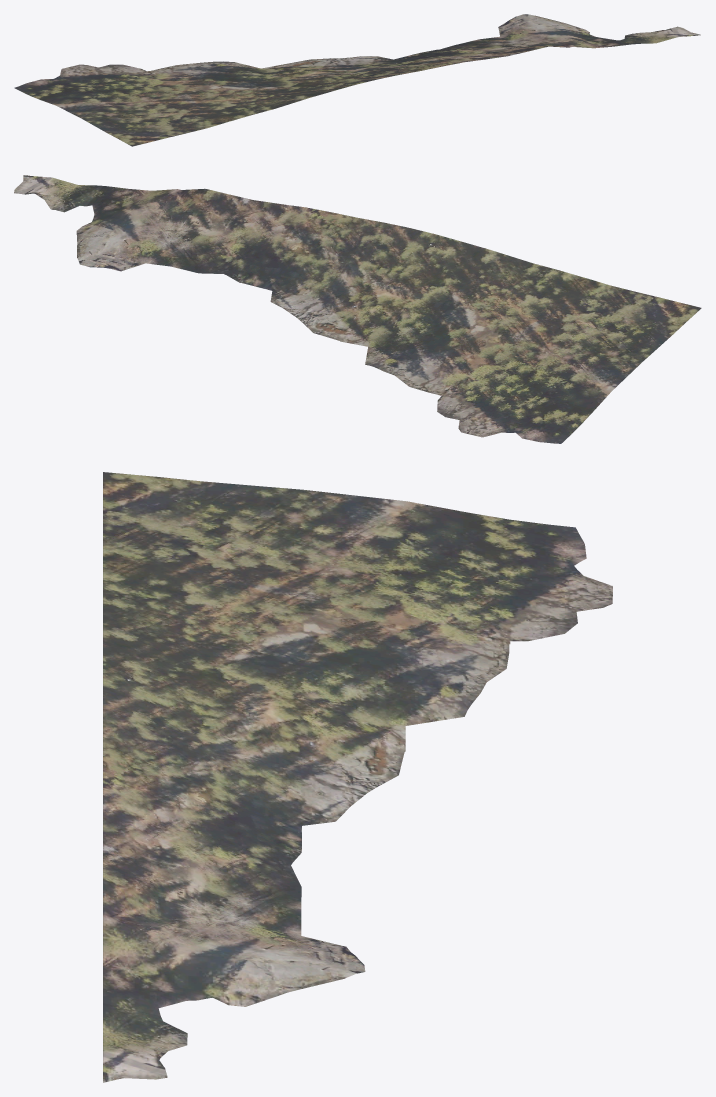
The model's file is CM_Terrain_24489230_6822865.fbx.
The picture shows the model from 3 angles, top to bottom: view 1: azimuth 30°, elevation 25°; view 2: azimuth 150°, elevation 25°; view 3: azimuth 270°, elevation 25°; orthographic projection. The views are drawn at different scales.
Parts seen in each view (by area): view 1: CM_Terrain_24489230_6822865_LOD0; view 2: CM_Terrain_24489230_6822865_LOD0; view 3: CM_Terrain_24489230_6822865_LOD0.
Part boxes in pixels (x1,y1,x2,y2): CM_Terrain_24489230_6822865_LOD0: (14, 14, 700, 146); CM_Terrain_24489230_6822865_LOD0: (14, 175, 701, 443); CM_Terrain_24489230_6822865_LOD0: (103, 472, 612, 1082).
Size of what is drawn, in the model's own units: 192 by 12.03 by 74.19.
